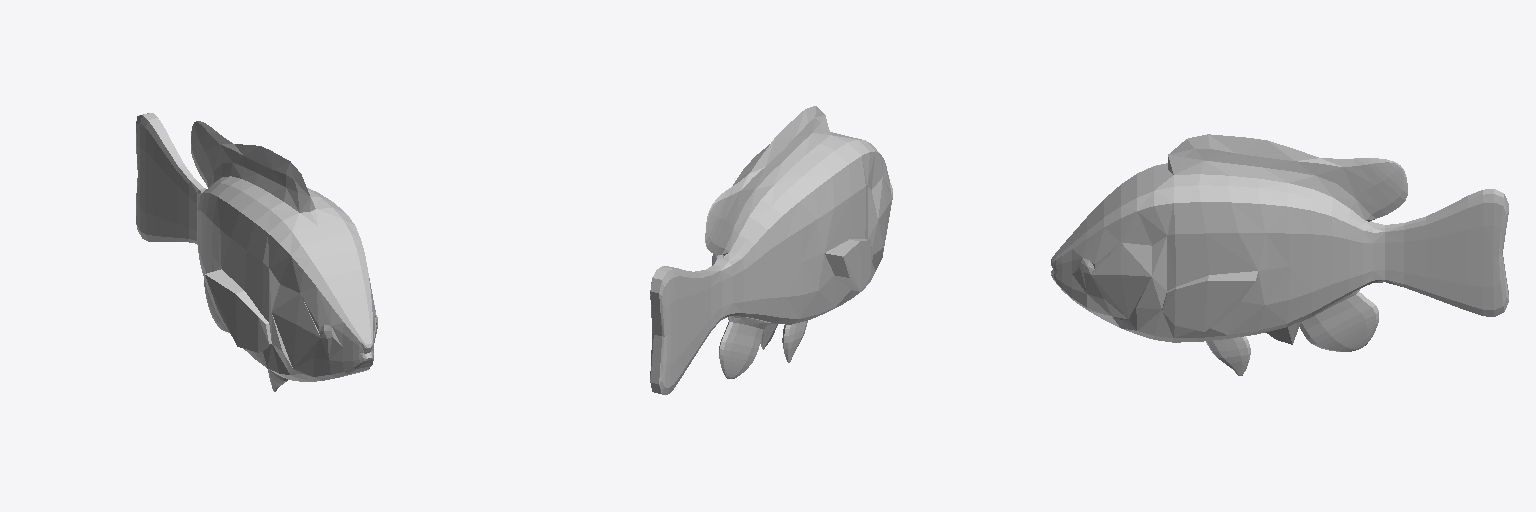
The model's file is perch.obj.
3 views of the same model, side by side, from view 1: azimuth 30°, elevation 25°; view 2: azimuth 150°, elevation 25°; view 3: azimuth 270°, elevation 25° (orthographic).
Parts seen in each view (by area): view 1: Cube; view 2: Cube; view 3: Cube.
Boxes of the visible parts, <box> form: Cube: <box>136,113,377,391</box>; Cube: <box>650,106,892,394</box>; Cube: <box>1051,134,1508,375</box>.
Size of the model in its own units: 1.53 by 2.79 by 4.8.